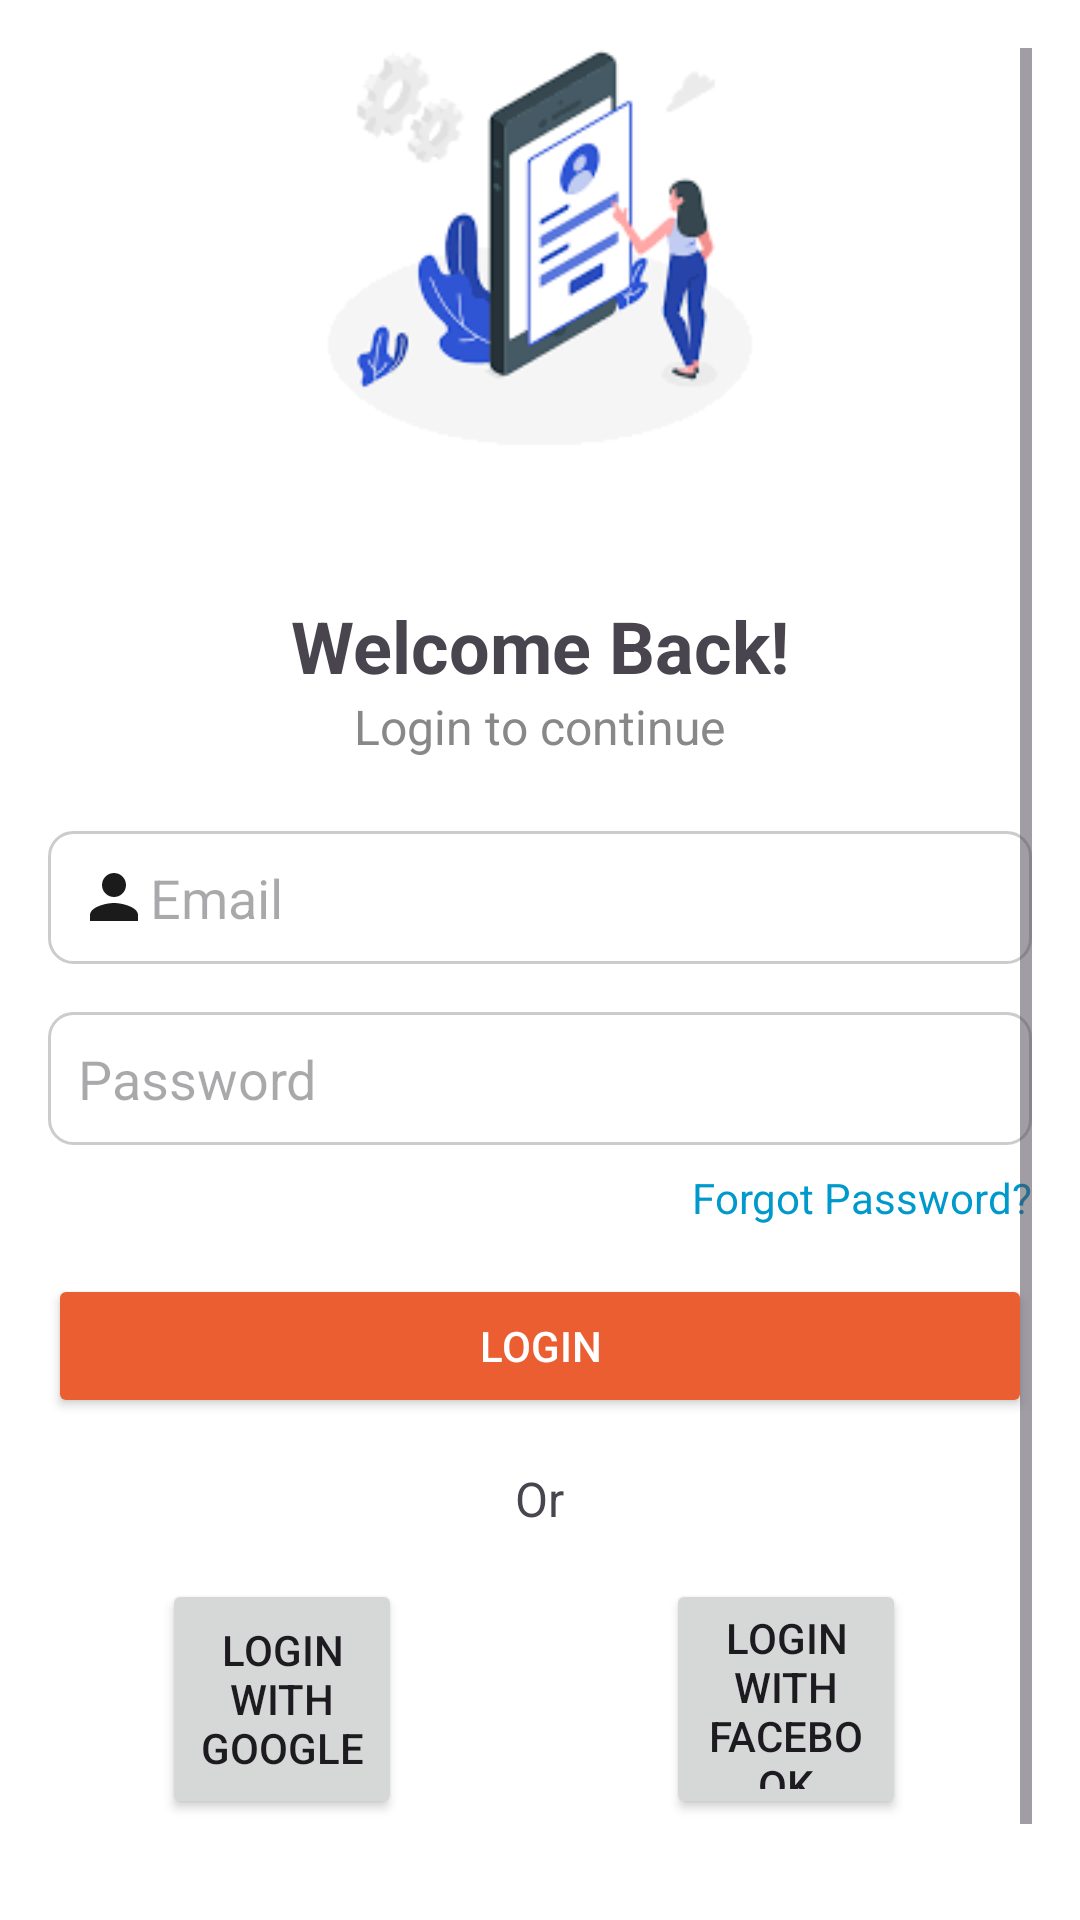

Where icons sit on this 1080 × 1920 app screen, as (x1, y1, x2, y2):
Illustration: (356, 51, 715, 388)
